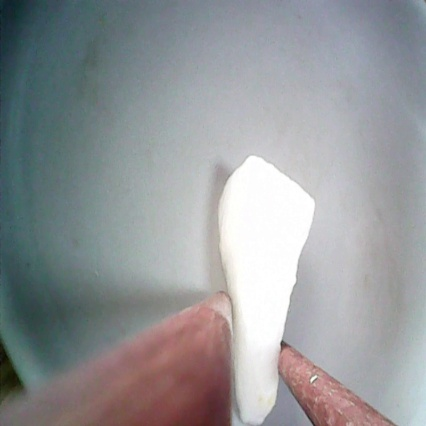white_chinese-yam: (208, 148, 317, 426)
